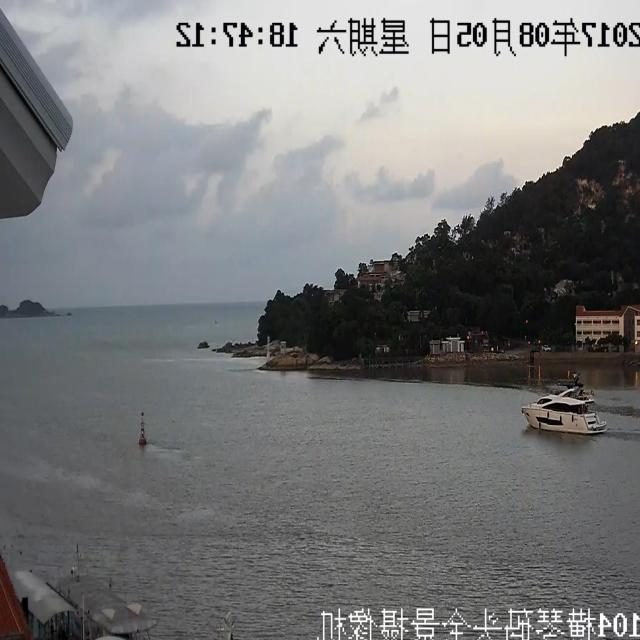buoy: (131, 393, 173, 449)
passenger ship: (512, 348, 614, 449)
